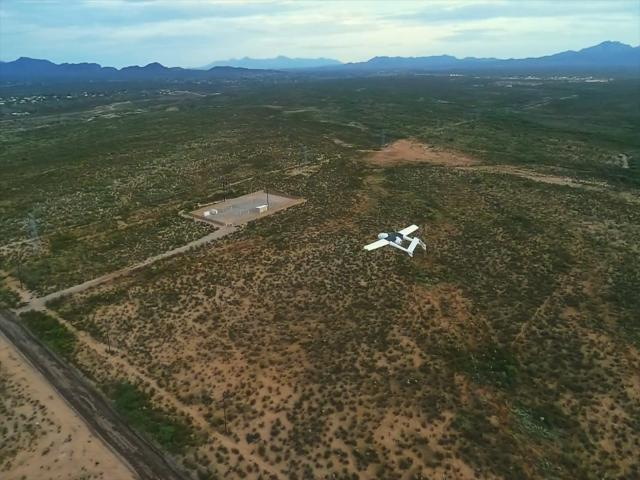plane: (362, 221, 430, 260)
